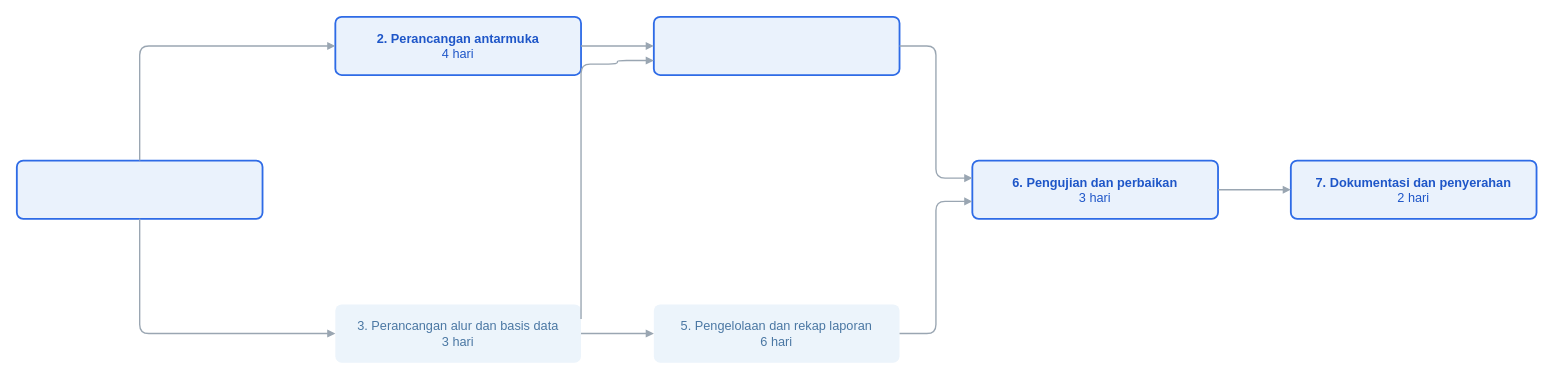
This 1552x378 diagram has some shape labels left out. The centre of each missing label's shape, as x and y in pixels:
"1. Analisis kebutuhan 3 hari" goes at point 139,189.
"4. Pengembangan login dan pelaporan 7 hari" goes at point 776,45.
